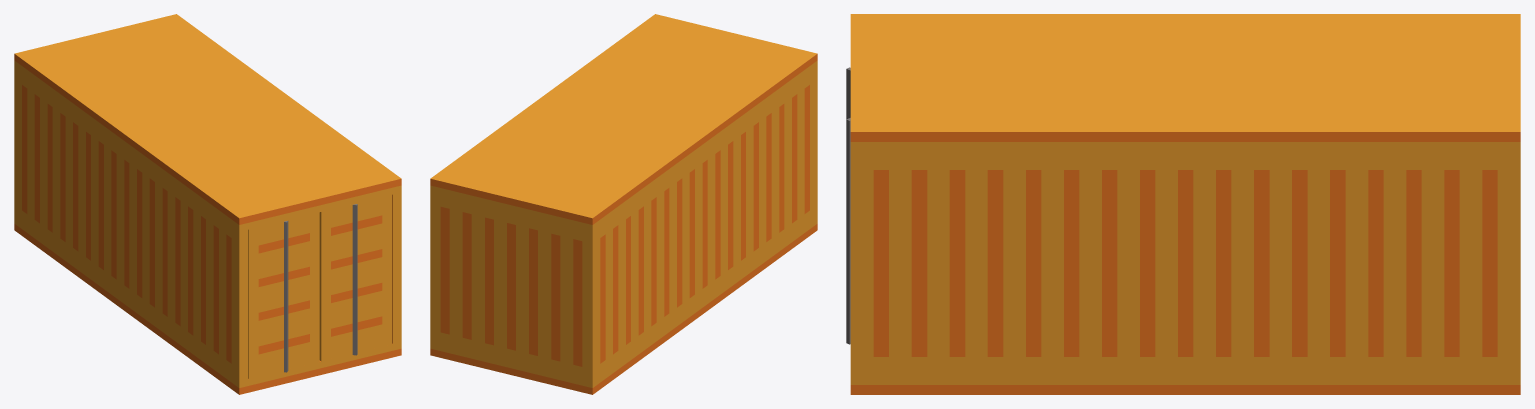
Rendered from cargo-shipping_orange.glb.
3 renders of one model, left to right at view 1: azimuth 30°, elevation 25°; view 2: azimuth 150°, elevation 25°; view 3: azimuth 270°, elevation 25°, orthographic. The views are drawn at different scales.
Visible parts, largest first — view 1: cargo-shipping-base_orange, cargo-shipping-door_L_orange, cargo-shipping-door_R_orange; view 2: cargo-shipping-base_orange; view 3: cargo-shipping-base_orange, cargo-shipping-door_L_orange.
Boxes of the visible parts, x1=… form: cargo-shipping-base_orange: x1=14, y1=14, x2=401, y2=394; cargo-shipping-door_L_orange: x1=319, y1=194, x2=391, y2=361; cargo-shipping-door_R_orange: x1=248, y1=212, x2=319, y2=378; cargo-shipping-base_orange: x1=430, y1=14, x2=817, y2=394; cargo-shipping-base_orange: x1=850, y1=14, x2=1520, y2=394; cargo-shipping-door_L_orange: x1=846, y1=118, x2=850, y2=344.
Size of the model in its own units: 2.5 by 2.6 by 6.04.
1 material, 1 textured.
